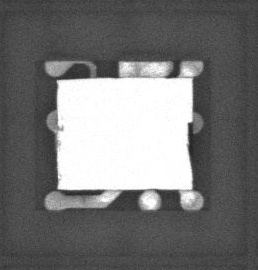DIE_INK: (56, 123, 64, 147)
